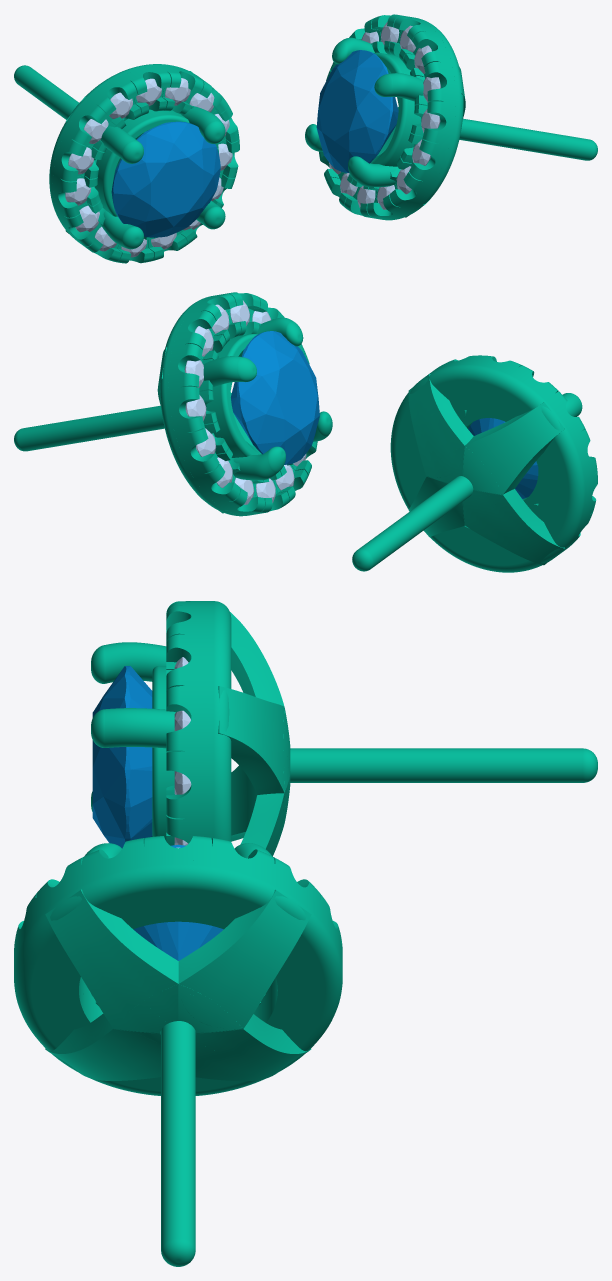
The picture shows the model from 3 angles, top to bottom: view 1: azimuth 30°, elevation 25°; view 2: azimuth 150°, elevation 25°; view 3: azimuth 270°, elevation 25°; orthographic projection. The views are drawn at different scales.
Parts seen in each view (by area): view 1: VEAR 069.3dm, Diamond_Round (×9), Head Prong (×7), Bezel (×2); view 2: VEAR 069.3dm, Diamond_Round (×2), Head Prong (×4), Bezel (×2); view 3: VEAR 069.3dm, Diamond_Round (×2), Head Prong (×2), Bezel.
Part boxes in pixels (box(x1,y1,x2,y2)): VEAR 069.3dm: box(14, 14, 597, 263); Diamond_Round (×9): box(65, 50, 398, 237); Head Prong (×7): box(100, 37, 423, 249); Bezel (×2): box(94, 52, 420, 216); VEAR 069.3dm: box(14, 292, 597, 572); Diamond_Round (×2): box(231, 331, 538, 498); Head Prong (×4): box(203, 317, 332, 480); Bezel (×2): box(206, 334, 541, 505); VEAR 069.3dm: box(14, 601, 597, 1266); Diamond_Round (×2): box(92, 666, 223, 960); Head Prong (×2): box(91, 642, 175, 748); Bezel: box(152, 666, 174, 840).
Bounding box in the file's own units: 3.31 × 1.13 × 1.95.
